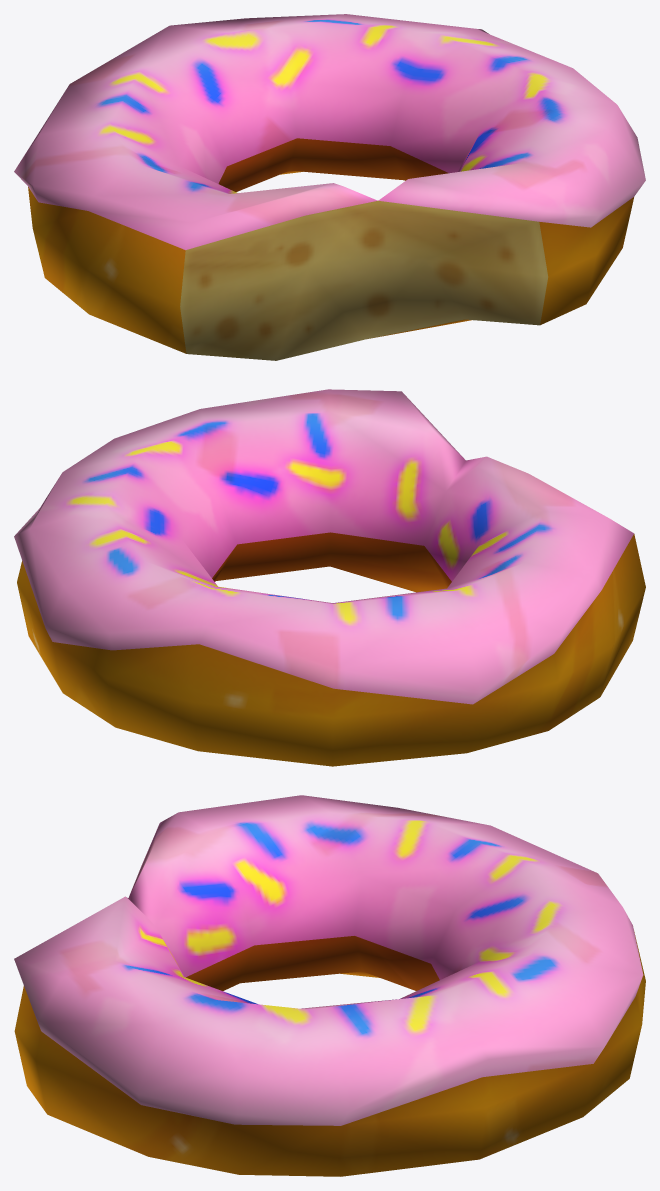
File: Food_Donut.fbx
The picture shows the model from 3 angles, top to bottom: view 1: azimuth 30°, elevation 25°; view 2: azimuth 150°, elevation 25°; view 3: azimuth 270°, elevation 25°; orthographic projection. The views are drawn at different scales.
Parts seen in each view (by area): view 1: Food_Donut; view 2: Food_Donut; view 3: Food_Donut.
Part boxes in pixels (x1,y1,x2,y2): Food_Donut: [14, 14, 645, 360]; Food_Donut: [14, 389, 645, 766]; Food_Donut: [14, 795, 645, 1176].
Size of the model in its own units: 0.3247 by 0.0923 by 0.3101.
